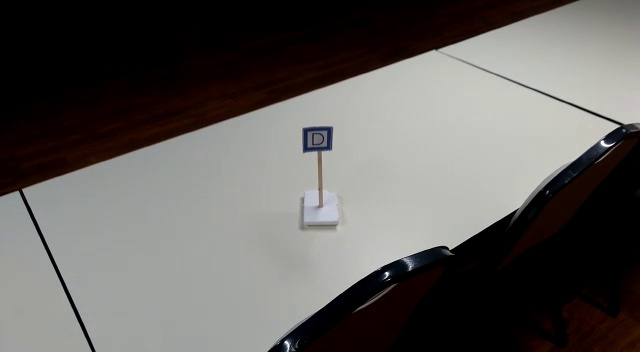durak: (302, 126, 333, 153)
